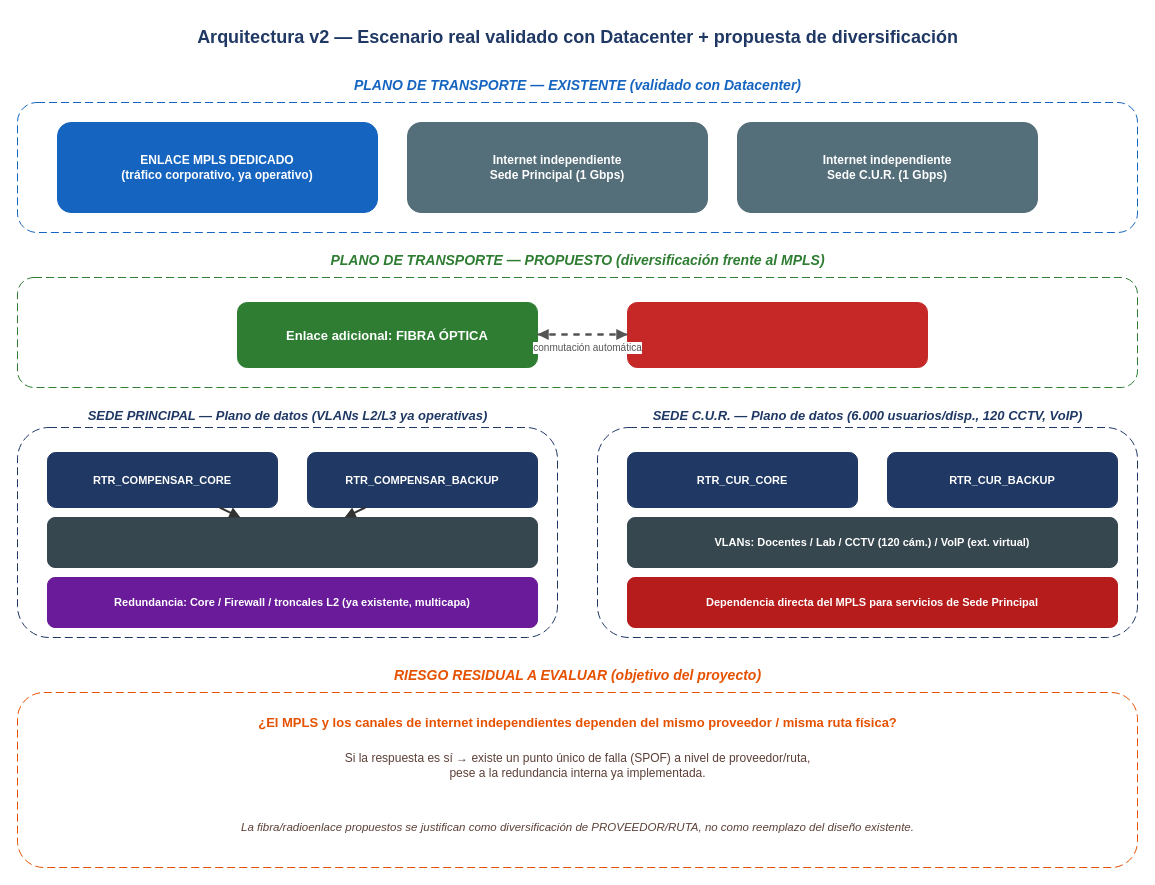
Some shapes in this 1155 by 885 pixel diagram are drawn without their labels. Here are the shapes that lost their labels. From the top down, the centre of each, then its label:
At (777,335): "Enlace adicional: RADIOENLACE PtP".
At (292,542): "Servidores institucionales (auth, BD, apps) — sirven también a C.U.R.".
